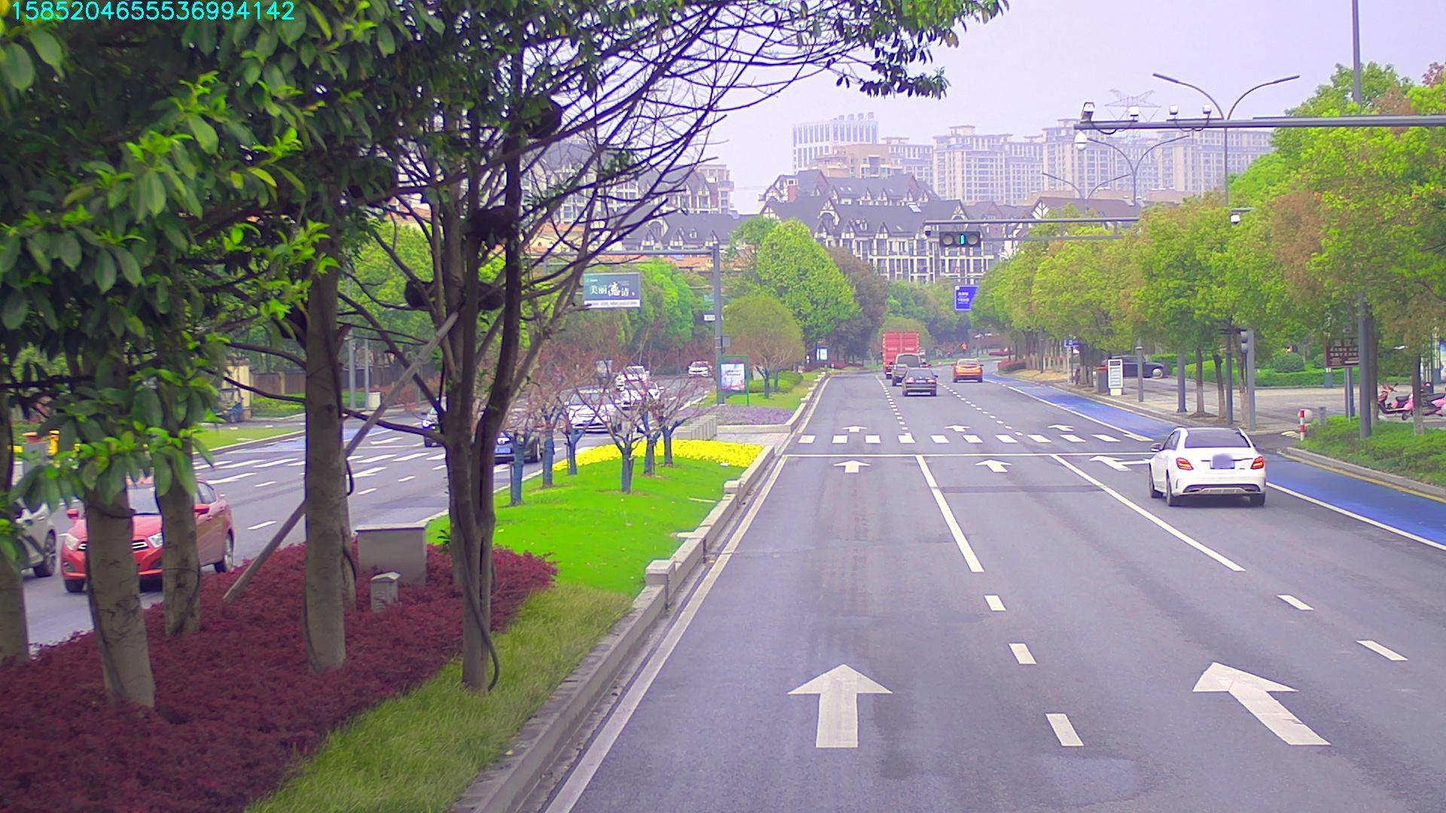green: (941, 231, 978, 246)
